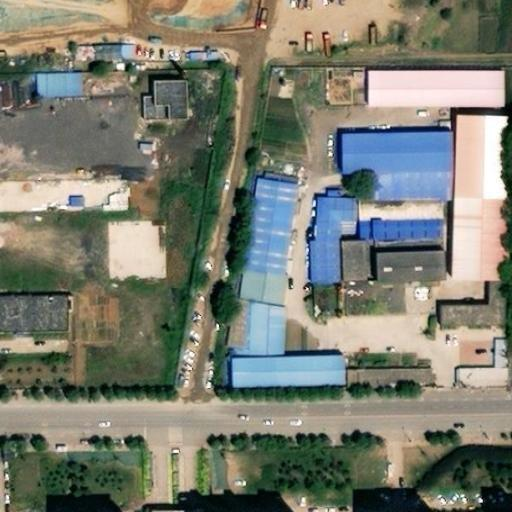building: (238, 182, 301, 316), (344, 145, 460, 216), (455, 134, 499, 300), (366, 81, 504, 124), (379, 213, 449, 273), (102, 214, 163, 277), (234, 370, 345, 401), (316, 211, 360, 283), (384, 271, 450, 305), (337, 254, 374, 300), (443, 320, 511, 344), (30, 67, 81, 96), (157, 96, 190, 138), (89, 39, 129, 58), (146, 107, 170, 134), (270, 73, 290, 95), (103, 188, 126, 206), (0, 75, 12, 103), (134, 136, 152, 151)
